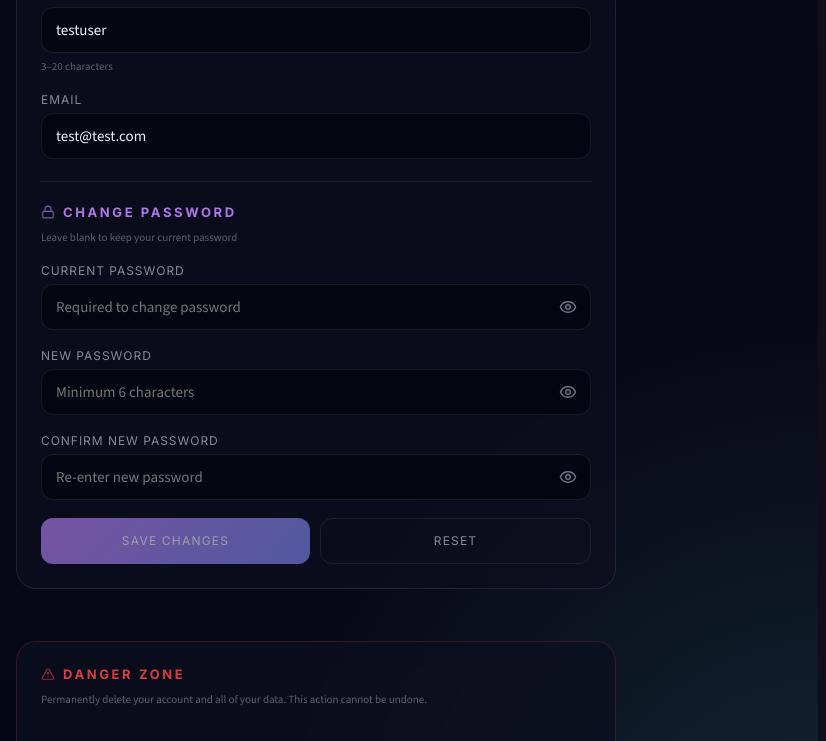
it: ProfilePage — Signed In › shows error when new passwords do not match
The width and height of the screenshot is (826, 741).
(page scrolled)
Type "newpass1" into the password field with placeholder "Minimum 6 characters". click: point(316, 392)
box: [41,369,591,415]
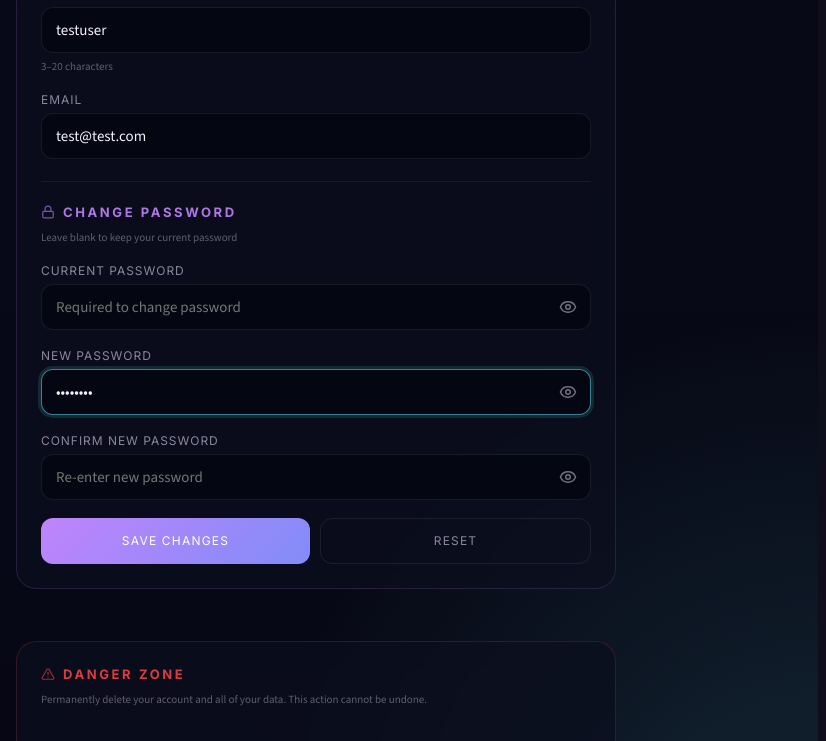
Type "newpass2" into the password field with placeholder "Re-enter new password". click: point(316, 477)
box: [41,454,591,500]
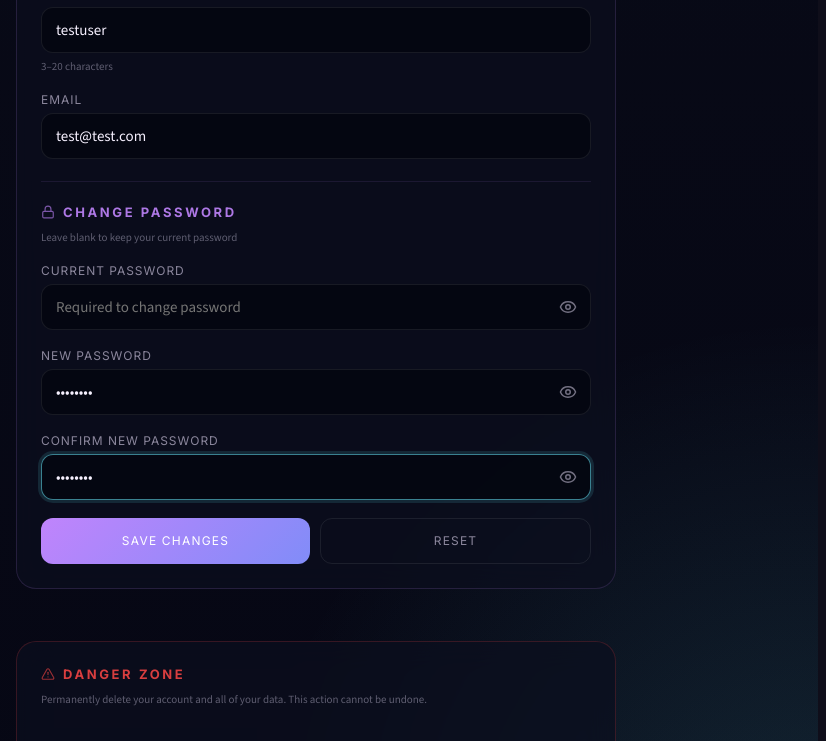
Type "oldpass" into the password field with placeholder "Required to change password". click: point(316, 307)
box: [41,284,591,330]
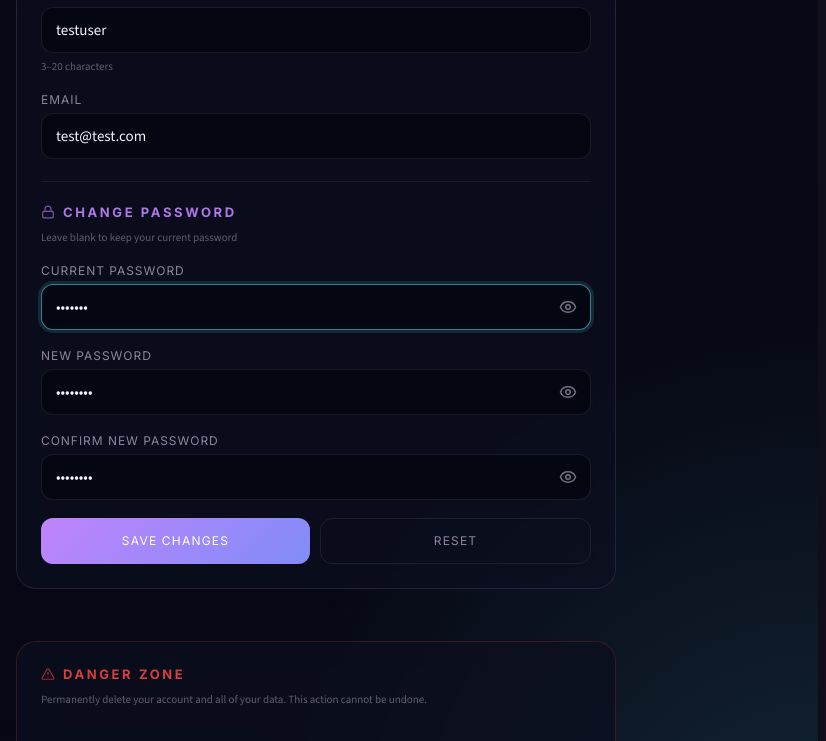
Click the button "Save Changes". click: point(176, 541)
box: [41,518,310,564]
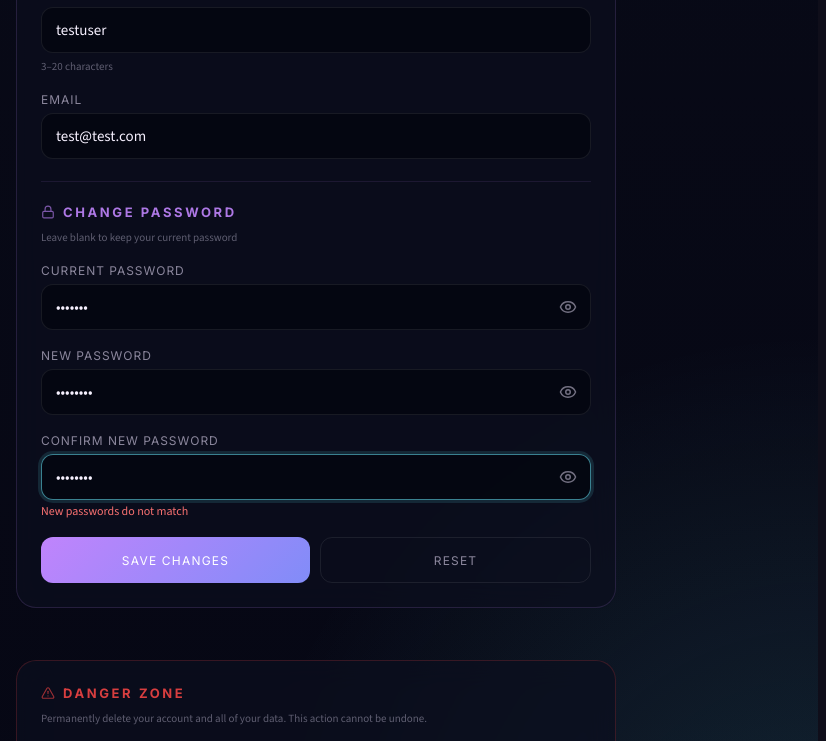
Now the text "New passwords do not match" is shown, box [41,503,188,519]
